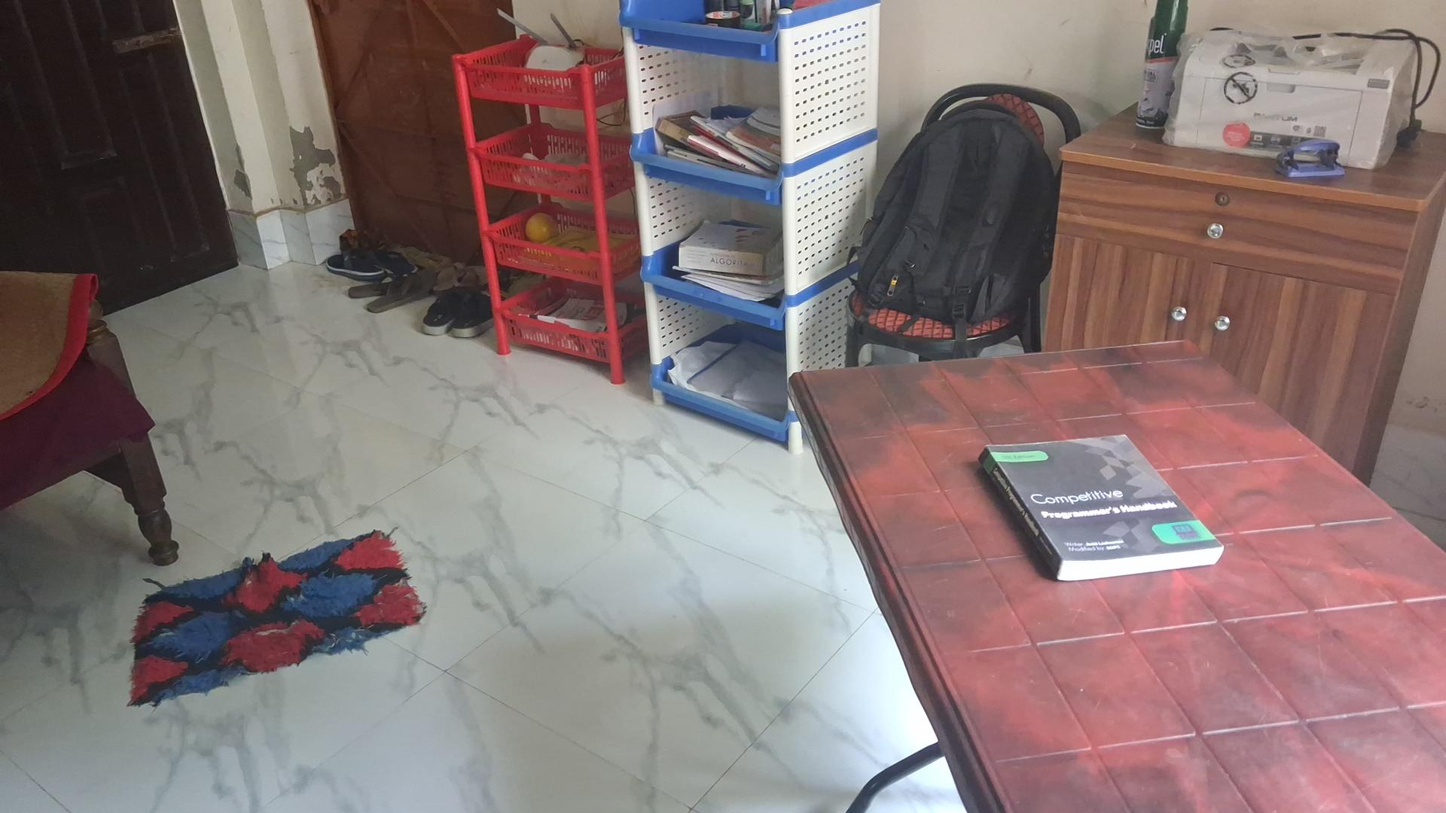Bag: (865, 103, 1055, 335)
Book: (979, 432, 1226, 582), (676, 221, 789, 276)
Bottle: (1136, 0, 1186, 145)
Floor Mat: (125, 534, 430, 716)
Footwear: (420, 291, 498, 340), (348, 269, 431, 312), (326, 246, 416, 280)
Rack: (615, 0, 895, 458), (457, 44, 645, 382)
Table: (789, 349, 1446, 813)
